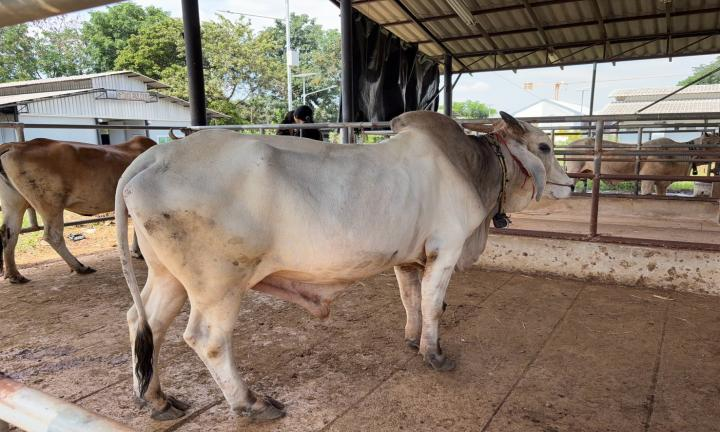Brahman: (116, 111, 572, 419)
